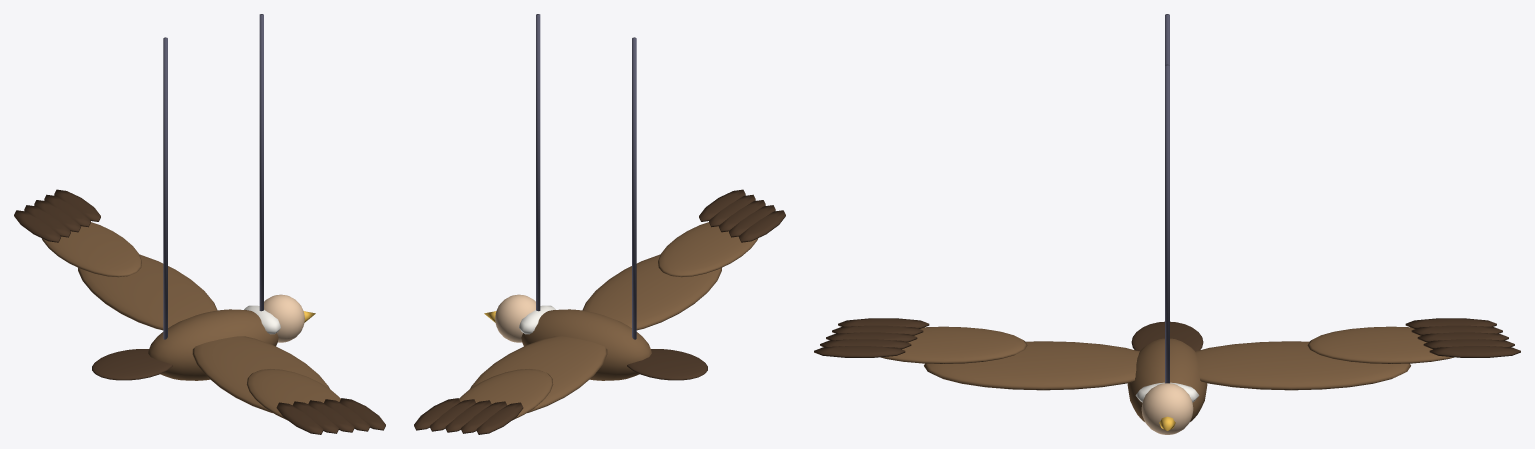
File: hanging.glb
3 renders of one model, left to right at view 1: azimuth 30°, elevation 25°; view 2: azimuth 150°, elevation 25°; view 3: azimuth 270°, elevation 25°, orthographic. The views are drawn at different scales.
Parts seen in each view (by area): view 1: hanging; view 2: hanging; view 3: hanging.
Boxes of the visible parts, box(x1,y1,x2,y2) form: hanging: box(14, 14, 385, 434); hanging: box(414, 14, 785, 434); hanging: box(814, 14, 1520, 434).
Size of the model in its own units: 1.38 by 2.08 by 3.54.
